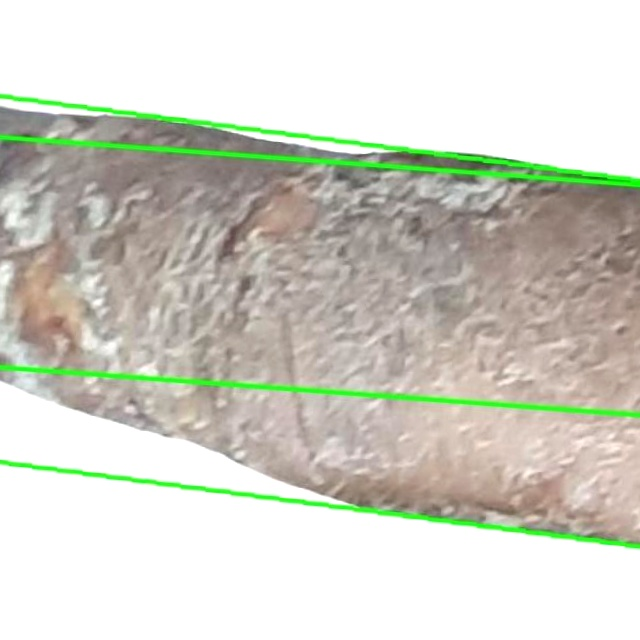Eczema: (0, 95, 639, 546), (0, 366, 639, 639), (0, 0, 639, 183)
